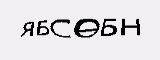Б: (99, 17, 119, 37), (35, 20, 50, 37)
Н: (119, 17, 142, 37)
С: (50, 17, 73, 39)
Я: (19, 21, 34, 38)
Ө: (72, 18, 101, 39)
